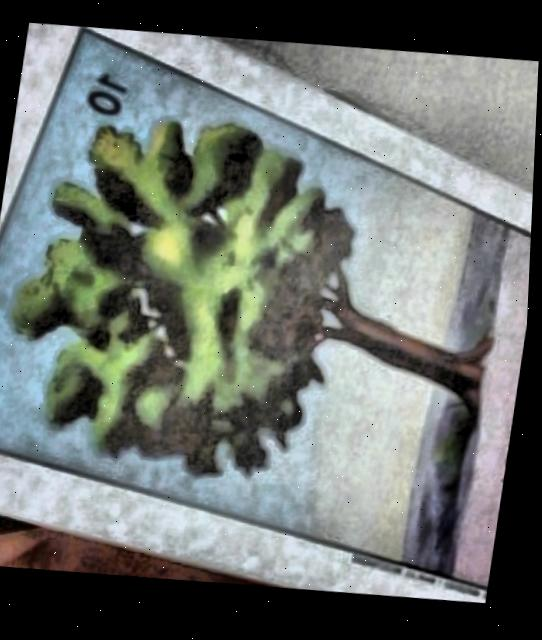El Arbol: (0, 27, 533, 586)
